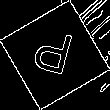P_S: (31, 26, 79, 84)
